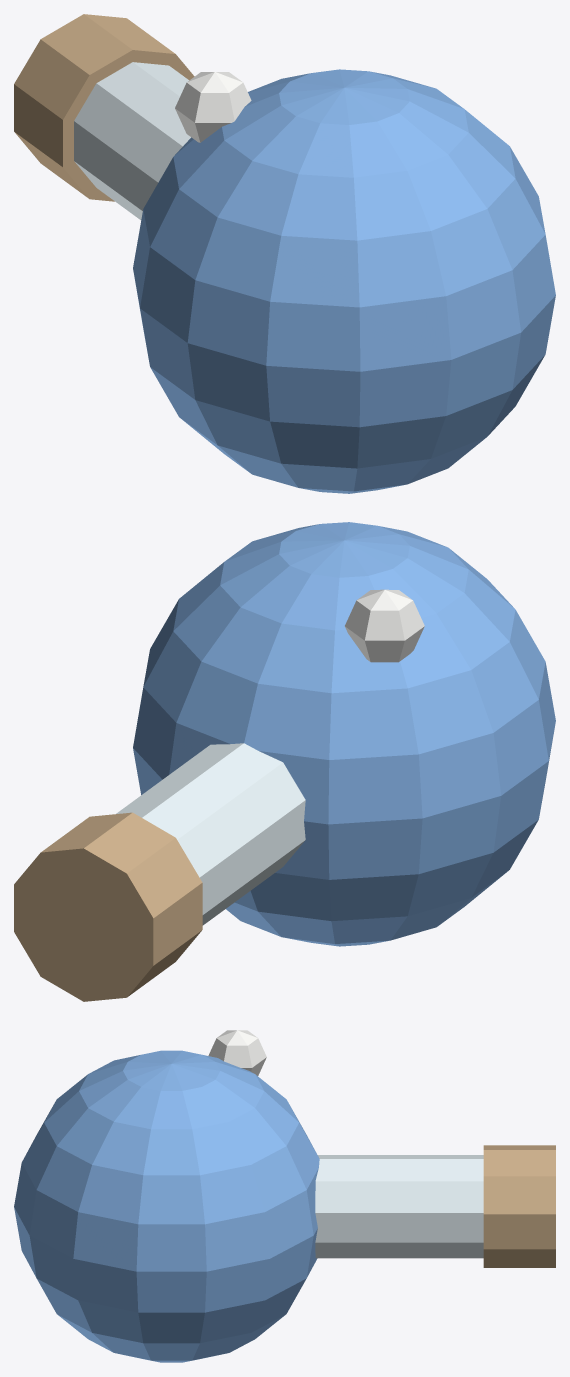
The model's file is flask_water_held.gltf.
3 views of the same model, one above another, from view 1: azimuth 30°, elevation 25°; view 2: azimuth 150°, elevation 25°; view 3: azimuth 270°, elevation 25° (orthographic). The views are drawn at different scales.
Visible parts, largest first — view 1: alchemy_flask_water_held; view 2: alchemy_flask_water_held; view 3: alchemy_flask_water_held.
Boxes of the visible parts, x1,y1,x2,y2 form: alchemy_flask_water_held: (14, 14, 555, 493); alchemy_flask_water_held: (14, 522, 555, 1001); alchemy_flask_water_held: (14, 1030, 555, 1362).
Size of the model in its own units: 0.0936 by 0.097 by 0.165.
